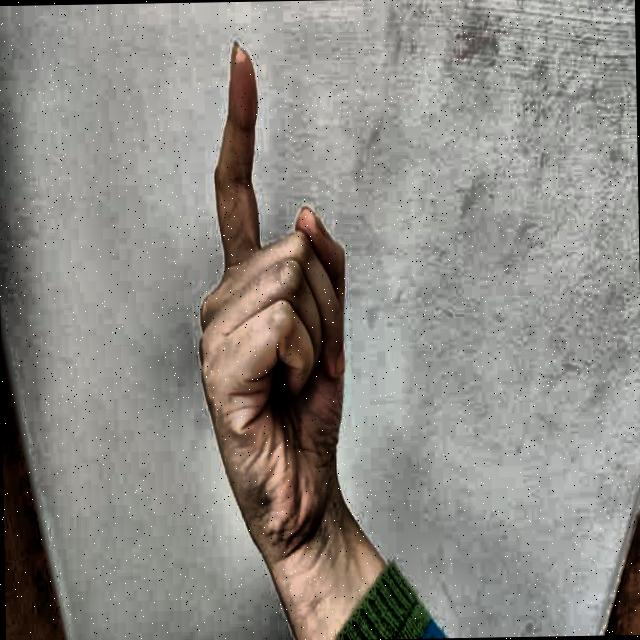U: (169, 29, 366, 562)
